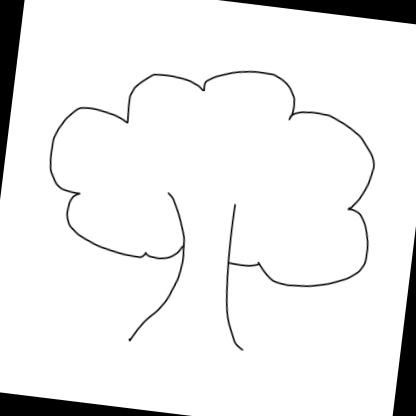crown_cloud: (37, 46, 389, 294)
trunk_straight: (160, 209, 240, 315)
